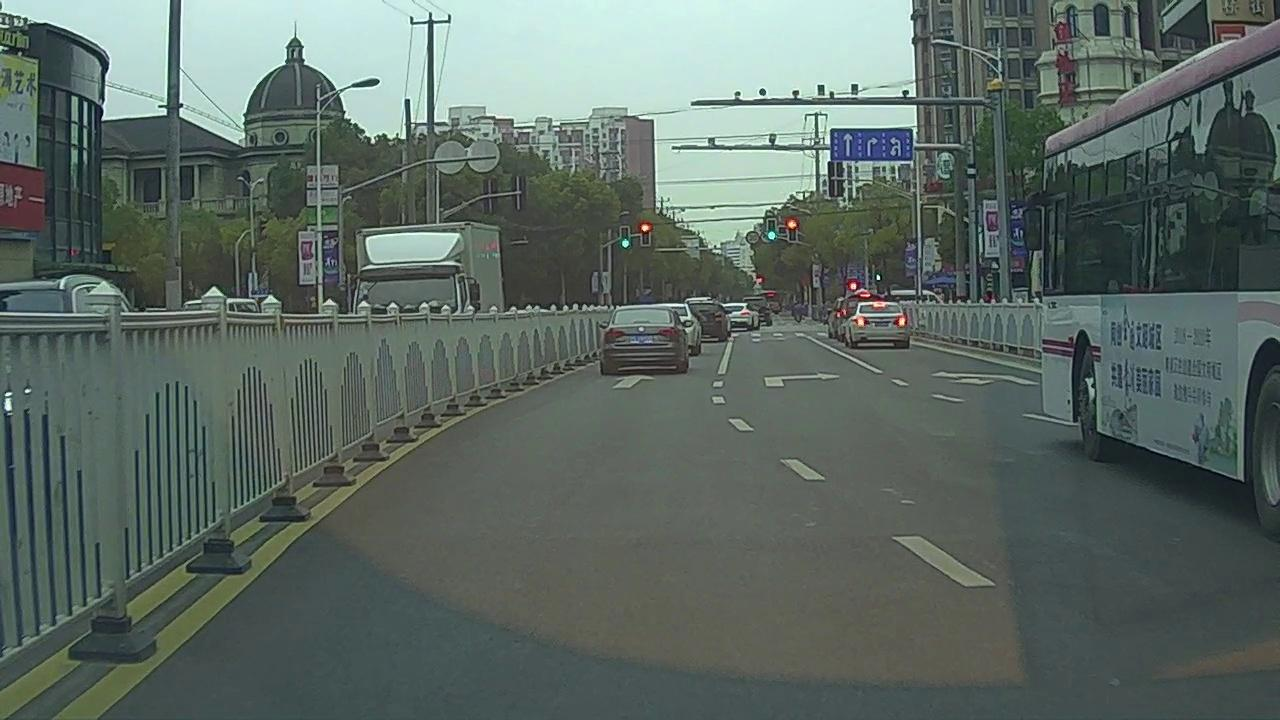traffic_light: (640, 223, 648, 246), (787, 220, 796, 240), (622, 227, 630, 249), (767, 220, 775, 239)
